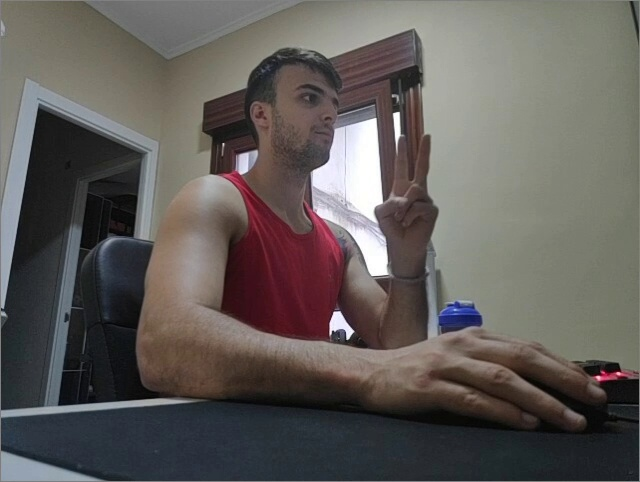Peace: (373, 131, 440, 253)
